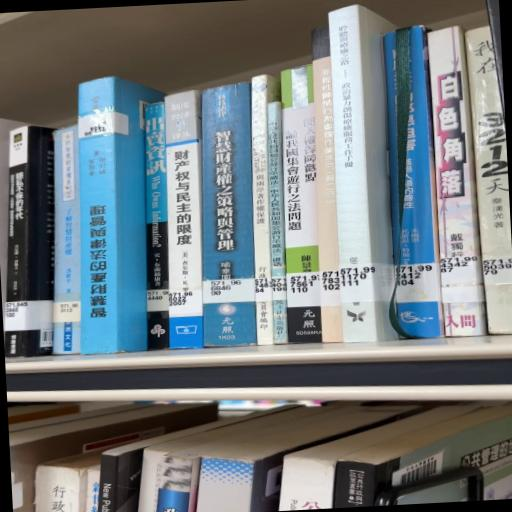reverse: (78, 77, 165, 354)
